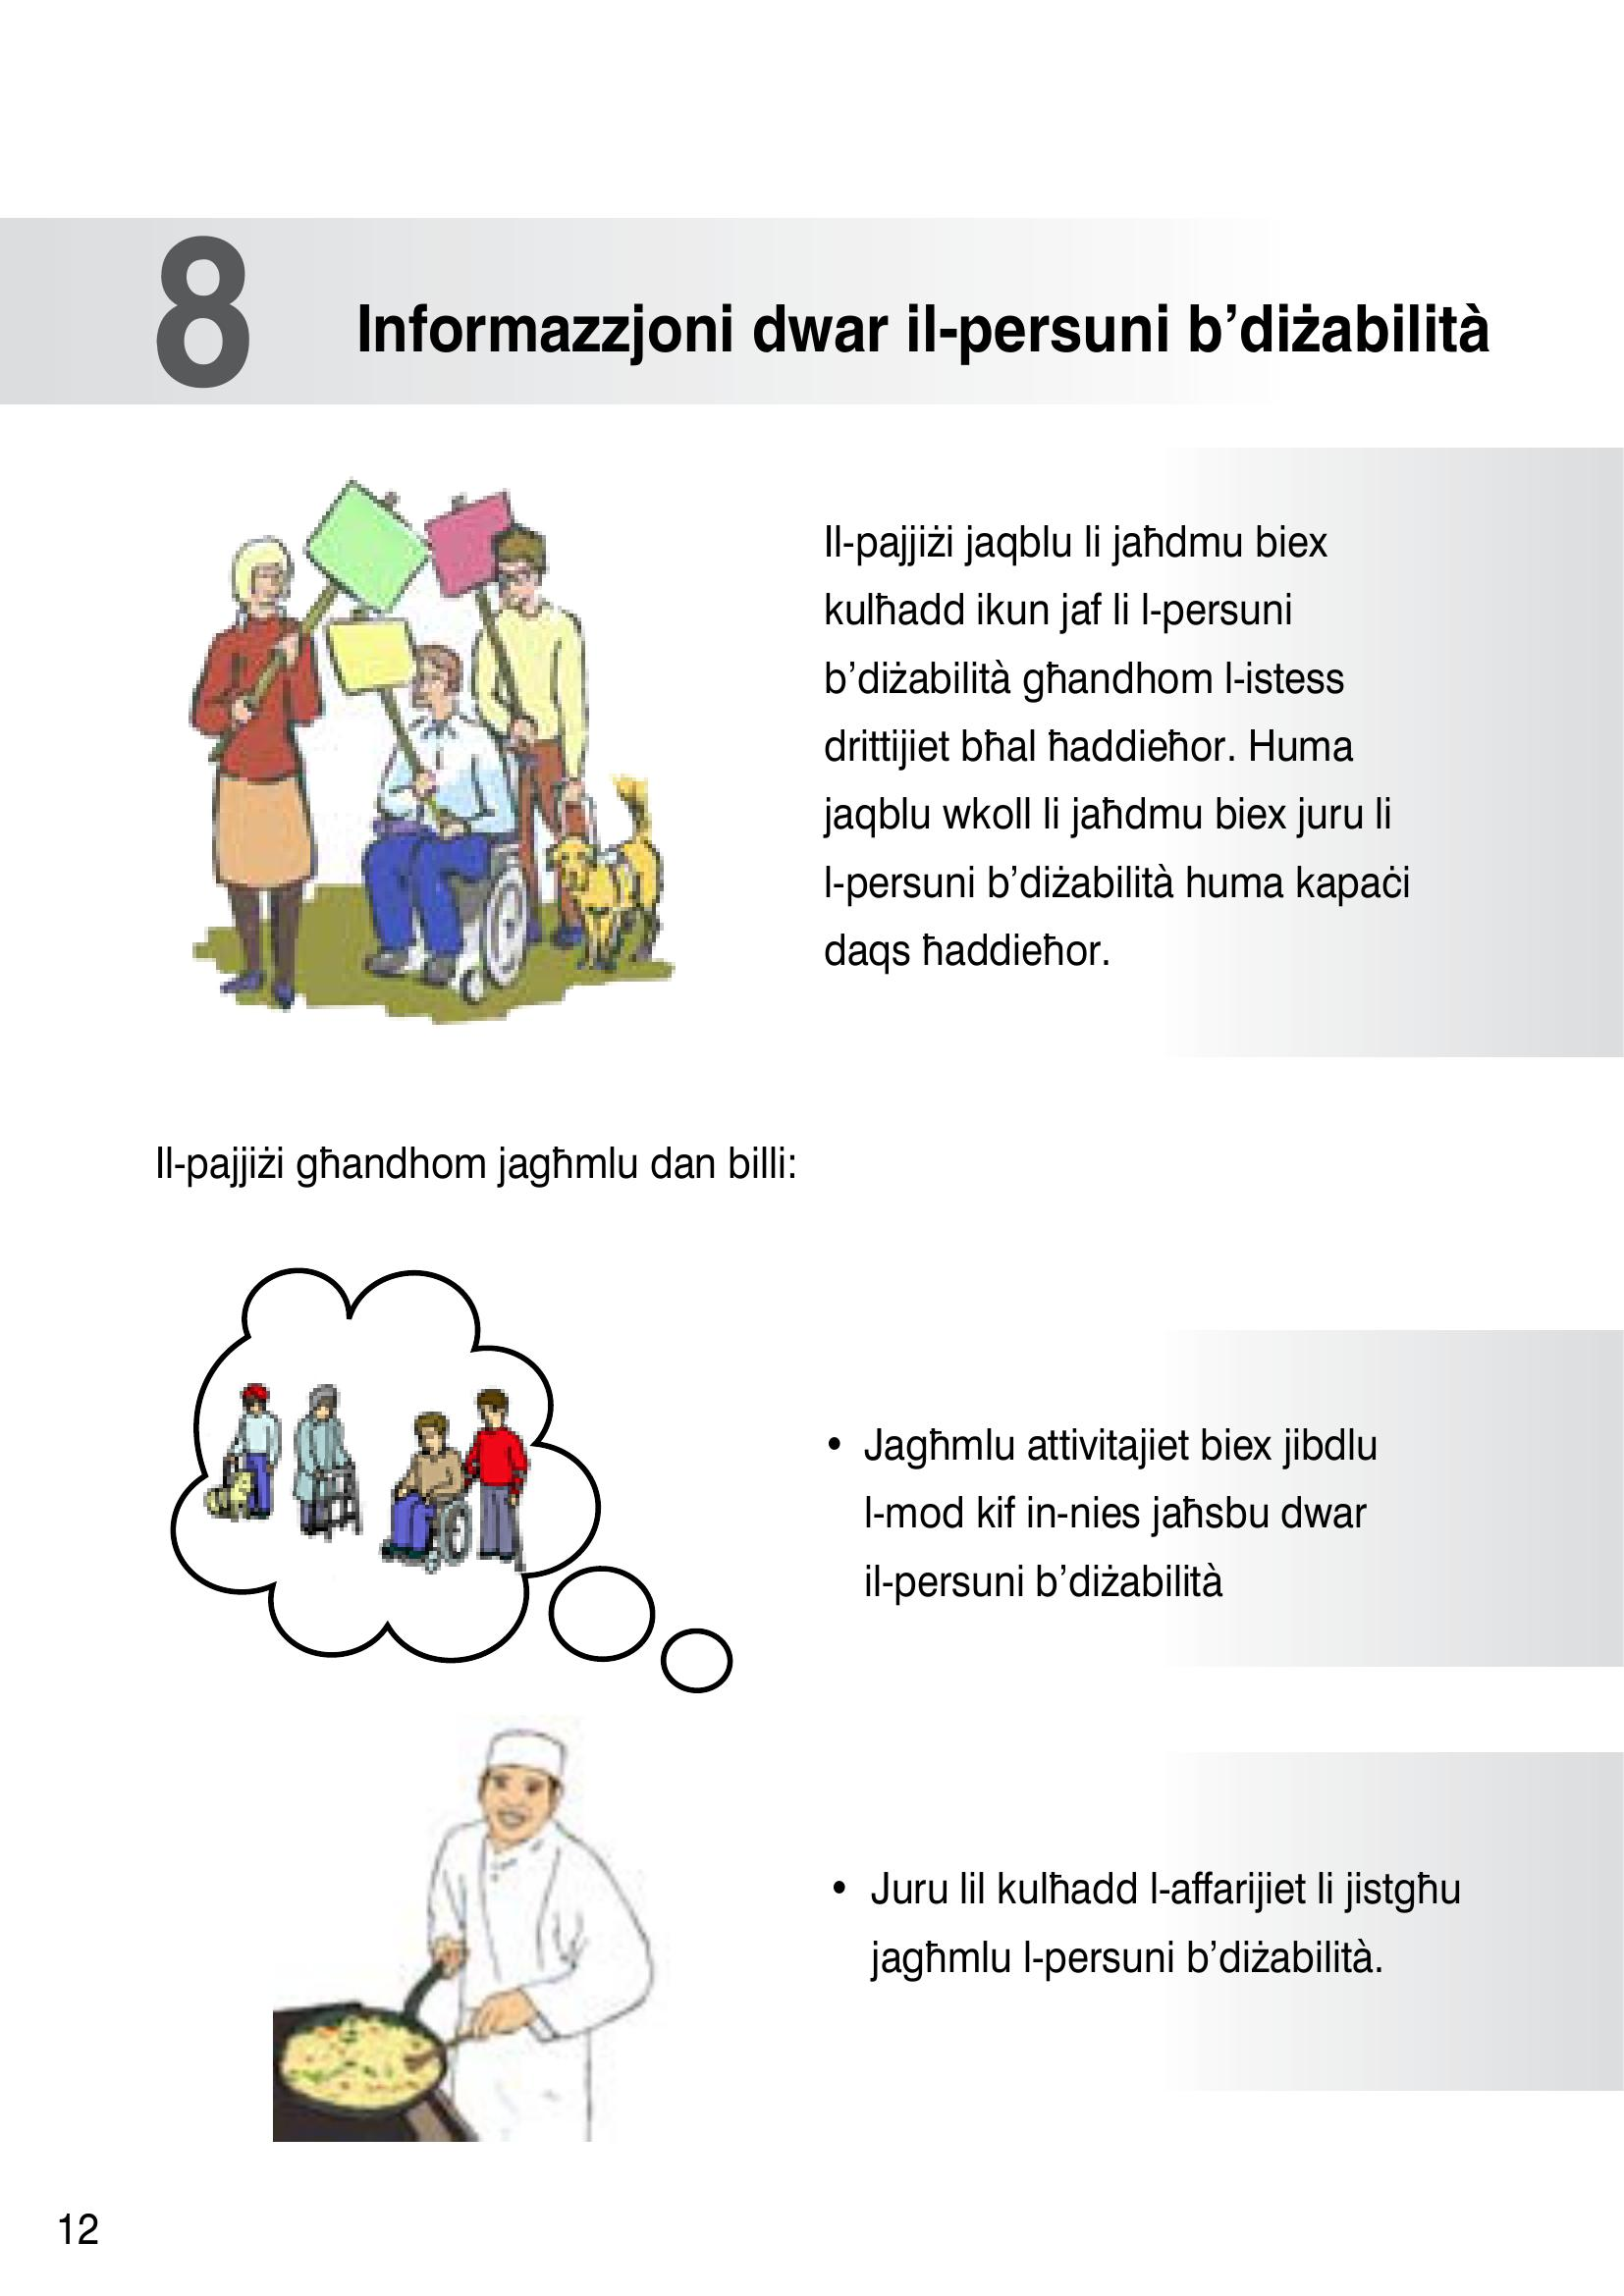text: (807, 1391, 1503, 2027), (789, 495, 1454, 1014), (139, 213, 1522, 397), (116, 1101, 845, 1214)
